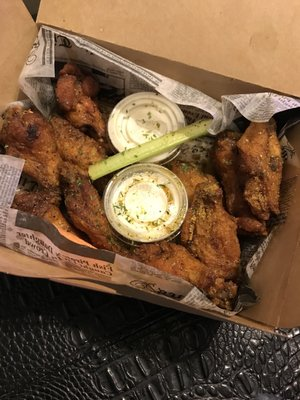sandwich: (0, 253, 300, 337)
